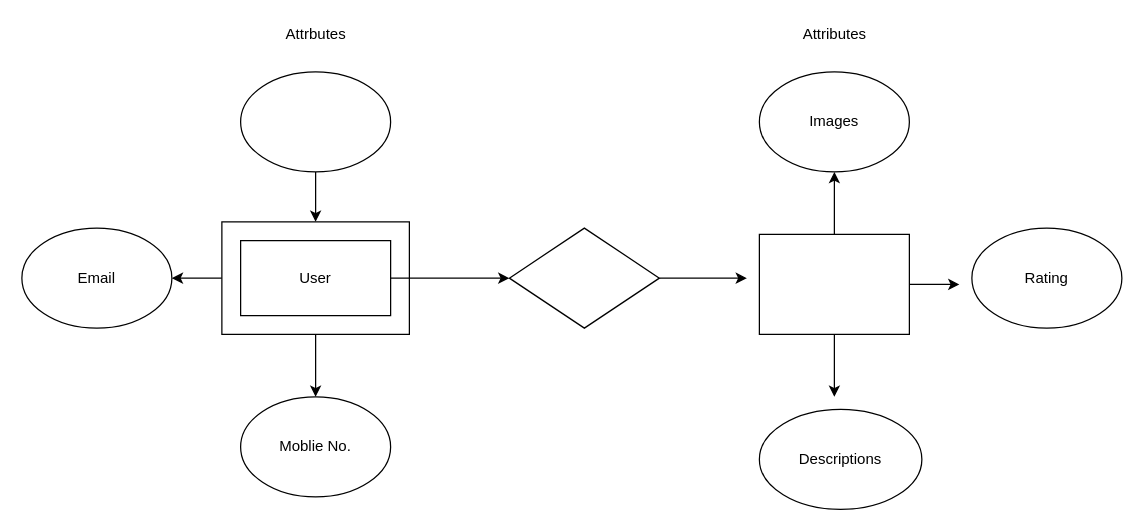
Image size: 1144x531. Some labels were removed from this diagram. Each missing label, with the centre of its shape:
"Name" goes at pixel 315 121.
"Provide" goes at pixel 583 277.
"Review" goes at pixel 833 283.
